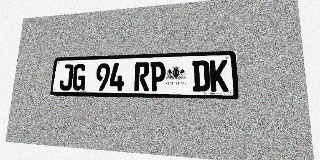4: (109, 63, 125, 91)
9: (95, 63, 110, 91)
D: (192, 60, 210, 92)
G: (72, 64, 87, 91)
J: (59, 64, 74, 90)
K: (210, 60, 229, 92)
P: (149, 61, 166, 91)
R: (134, 62, 150, 91)
